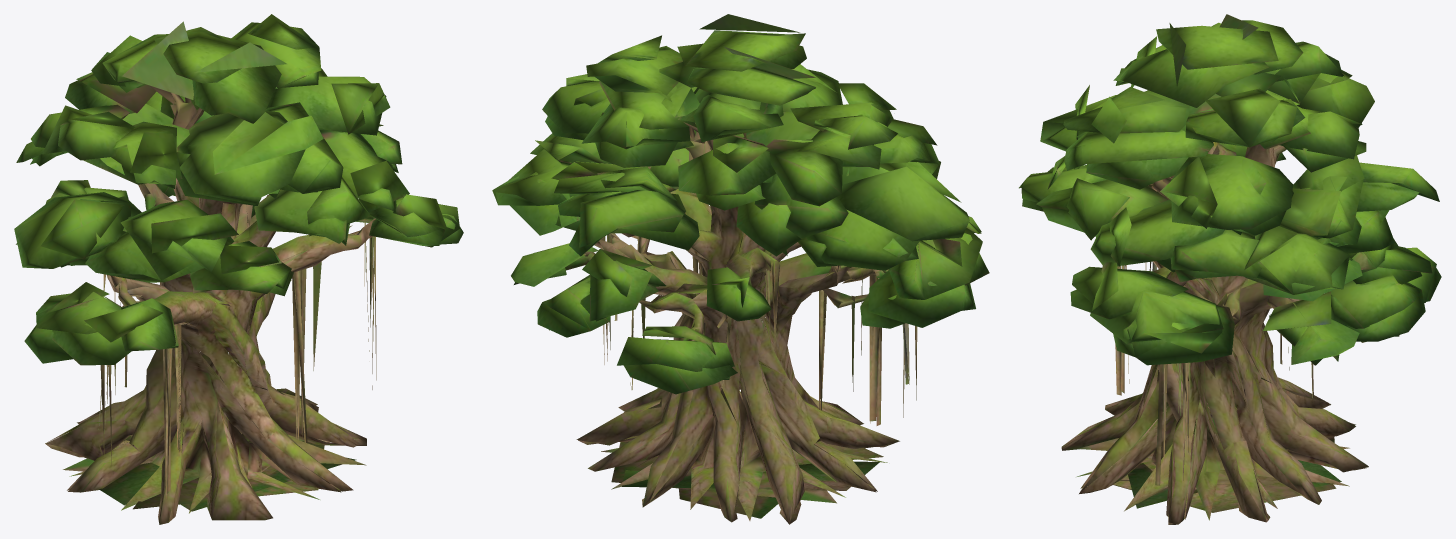
The model's file is Banyan.fbx.
3 renders of one model, left to right at view 1: azimuth 30°, elevation 25°; view 2: azimuth 150°, elevation 25°; view 3: azimuth 270°, elevation 25°, orthographic.
Parts seen in each view (by area): view 1: Banyan; view 2: Banyan; view 3: Banyan.
Boxes of the visible parts, <box> form: Banyan: <box>14,14,463,524</box>; Banyan: <box>492,14,989,524</box>; Banyan: <box>1019,14,1441,524</box>.
Bounding box in the file's own units: 10 × 9.69 × 8.66.
1 material, 1 textured.
